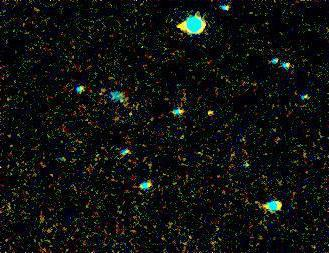star: (196, 99, 226, 129)
